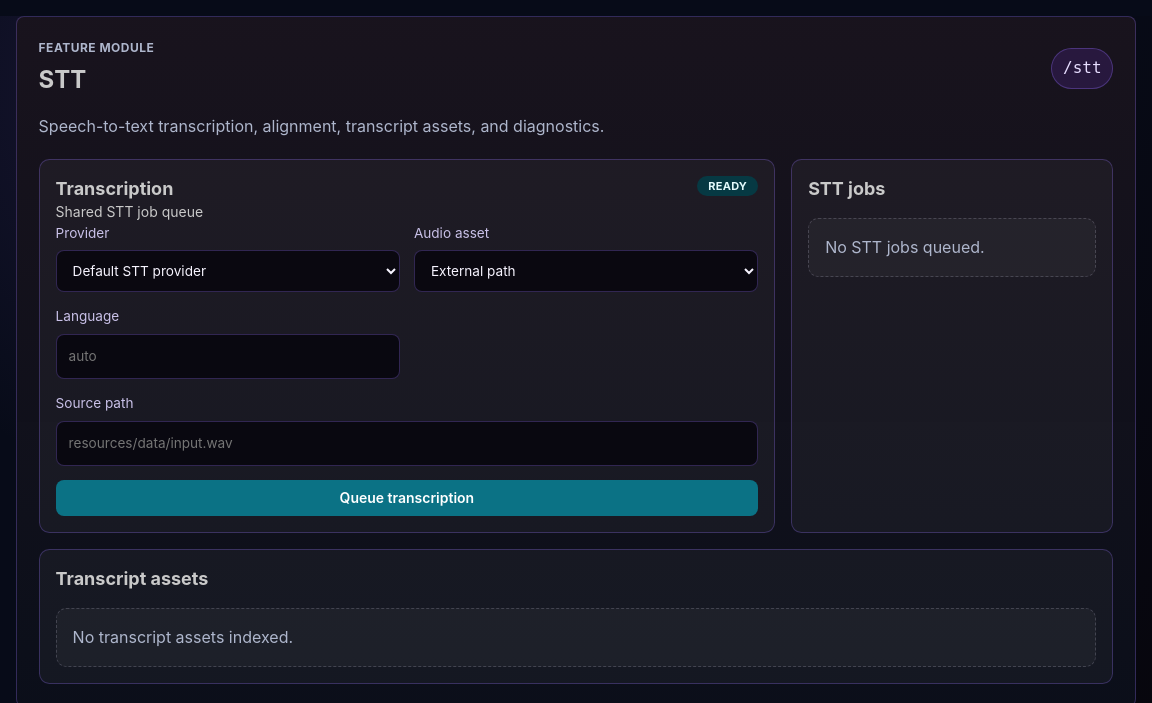
Test case: SttWorkspace › shows why a transcription could not be queued
The image size is (1152, 703).
Step 1. Select "Parakeet STT" in the dropdown labelled "Provider" → (228,271), box [56, 250, 400, 292]
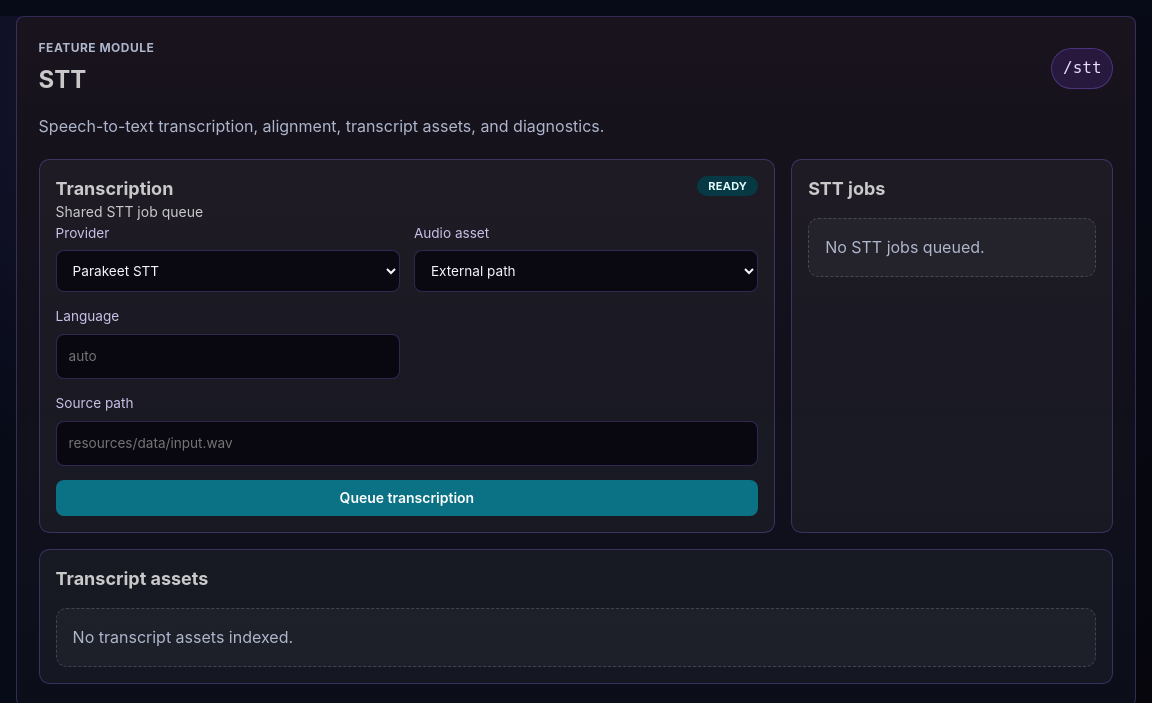
Step 2. Select "input.wav" in the dropdown labelled "Audio asset" → (586,271), box [414, 250, 758, 292]
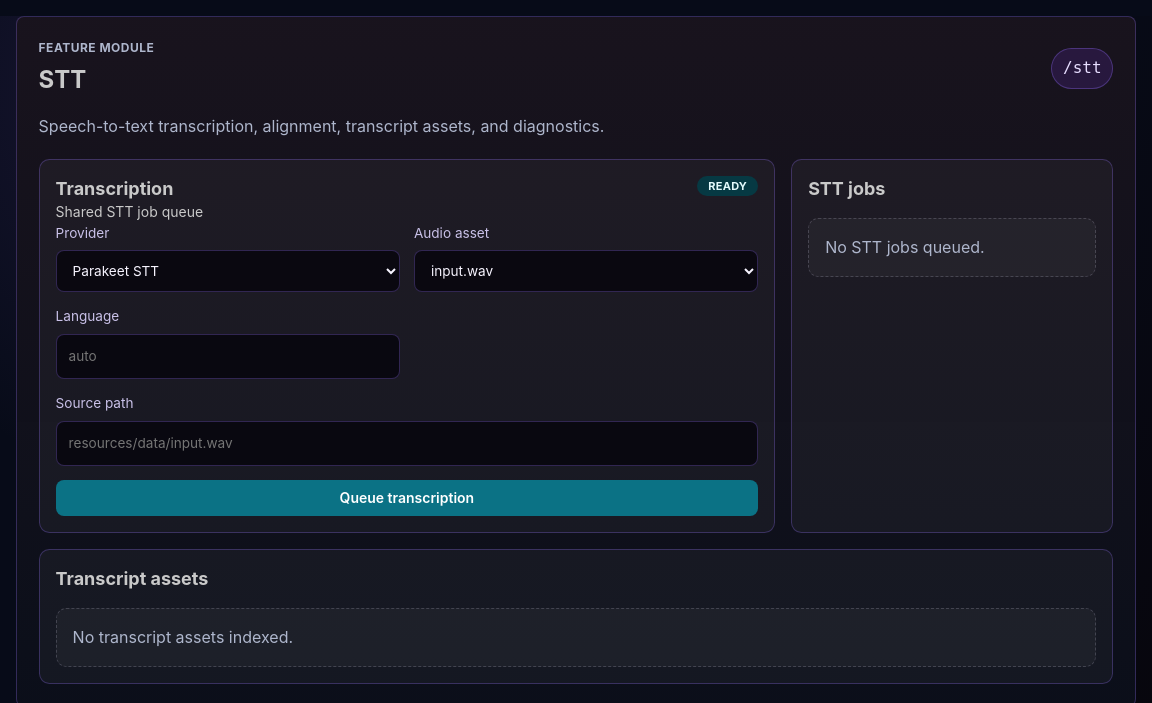
Step 3. Click the button "Queue transcription" → (407,498), box [56, 480, 758, 516]
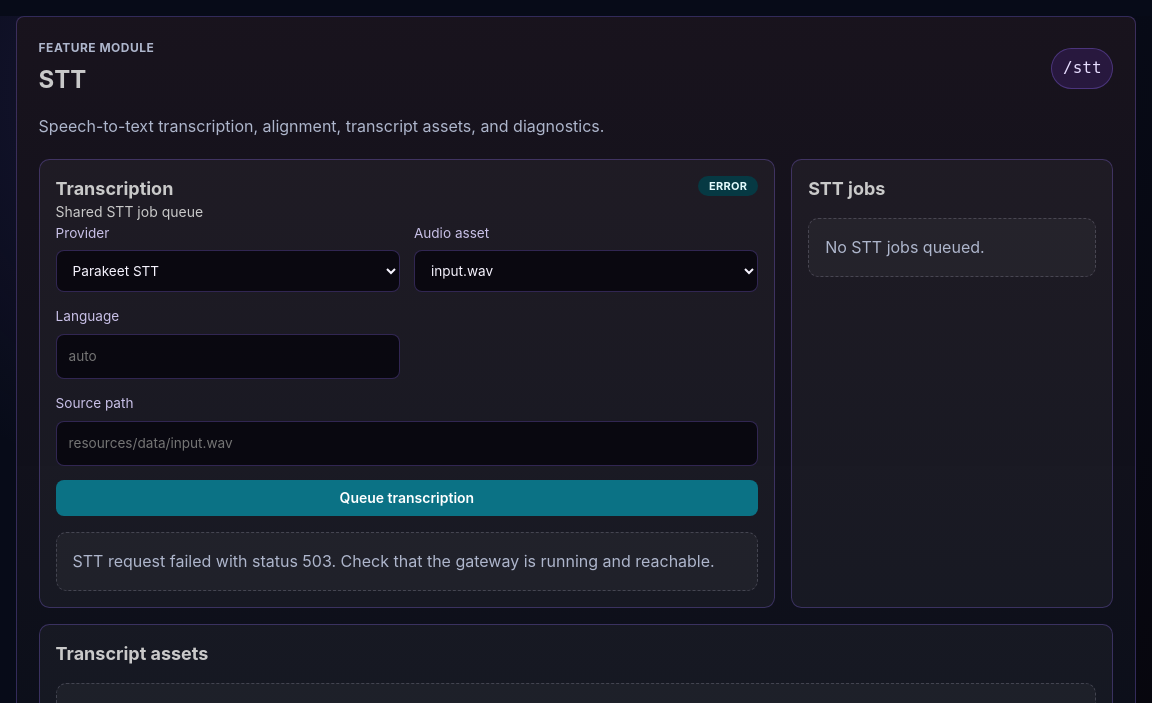
Expected: the 2nd message shows "STT request", [73, 551, 715, 571]
